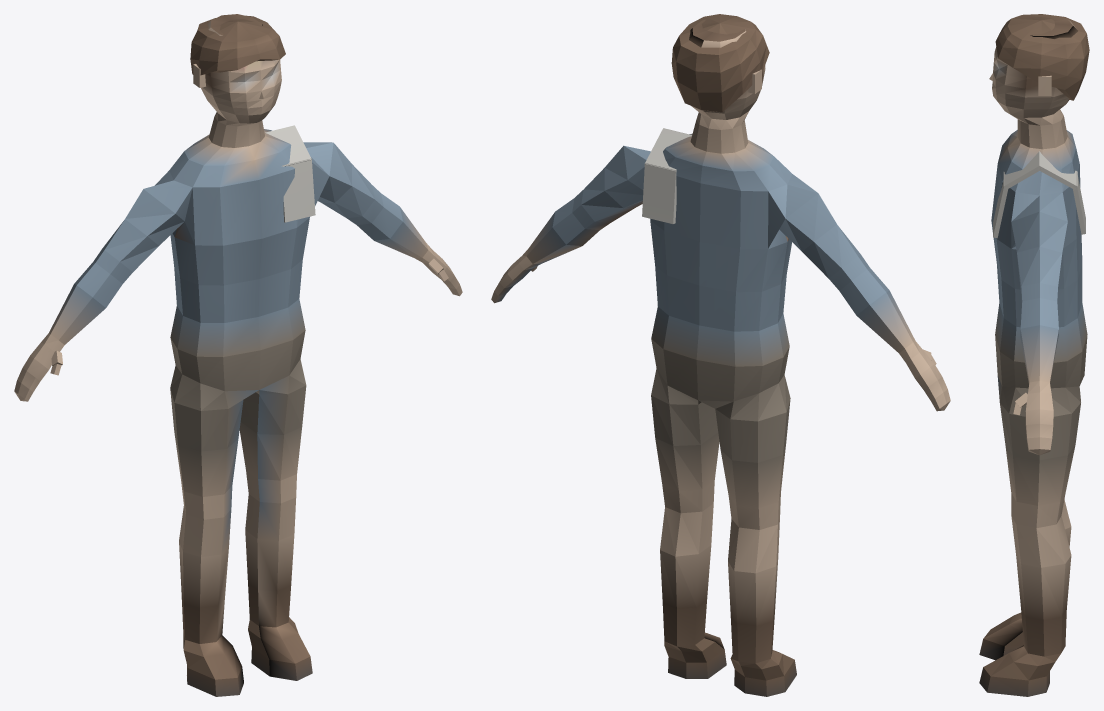
The model's file is char__pessoa__multidao_23.glb.
The picture shows the model from 3 angles, left to right: view 1: azimuth 30°, elevation 25°; view 2: azimuth 150°, elevation 25°; view 3: azimuth 270°, elevation 25°; orthographic projection. The views are drawn at different scales.
Visible parts, largest first — view 1: char__pessoa__multidao_23; view 2: char__pessoa__multidao_23; view 3: char__pessoa__multidao_23.
Part boxes in pixels (box(x1,y1,x2,y2)): char__pessoa__multidao_23: box(14, 14, 462, 696); char__pessoa__multidao_23: box(491, 14, 950, 696); char__pessoa__multidao_23: box(979, 14, 1089, 696).
Bounding box in the file's own units: 1.21 × 1.7 × 0.2602.
